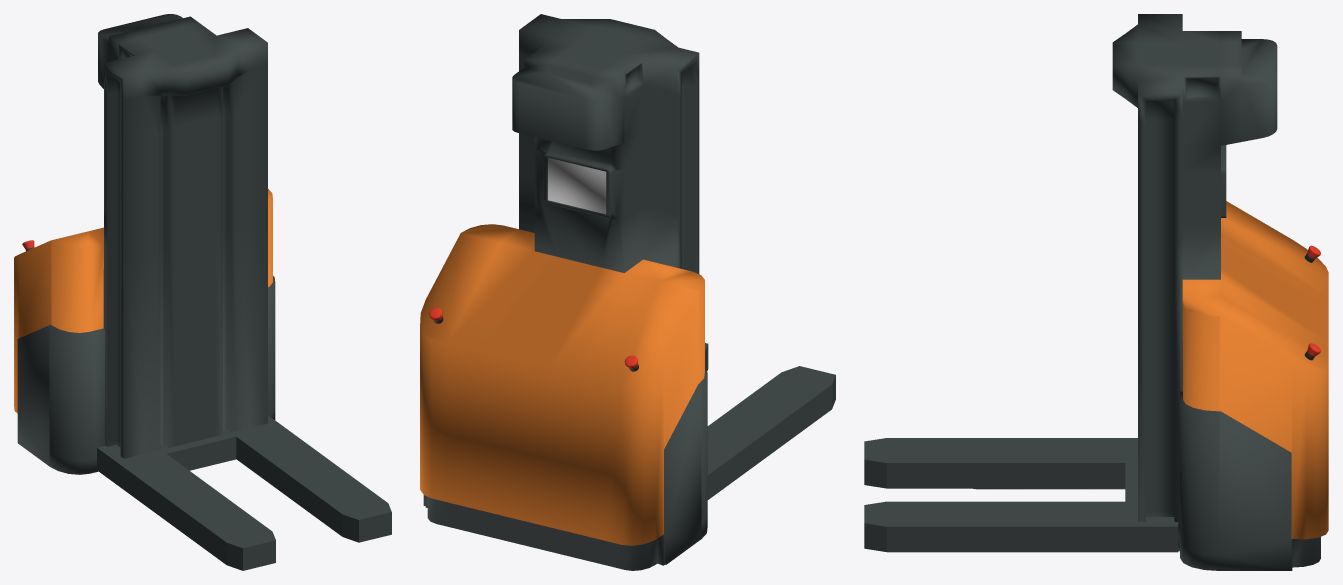
Rendered from forklift.glb.
3 renders of one model, left to right at view 1: azimuth 30°, elevation 25°; view 2: azimuth 150°, elevation 25°; view 3: azimuth 270°, elevation 25°, orthographic. The views are drawn at different scales.
Parts seen in each view (by area): view 1: Cylinder, Cube; view 2: Cylinder, Cube; view 3: Cylinder, Cube.
Part boxes in pixels (bbox=[...]): Cylinder: bbox=[14, 14, 275, 474]; Cube: bbox=[97, 415, 391, 570]; Cylinder: bbox=[420, 14, 707, 570]; Cube: bbox=[705, 343, 835, 499]; Cylinder: bbox=[973, 14, 1328, 570]; Cube: bbox=[864, 438, 1178, 552].
Size of the model in its own units: 2.04 by 3.61 by 3.31.
2 materials, 1 textured.
